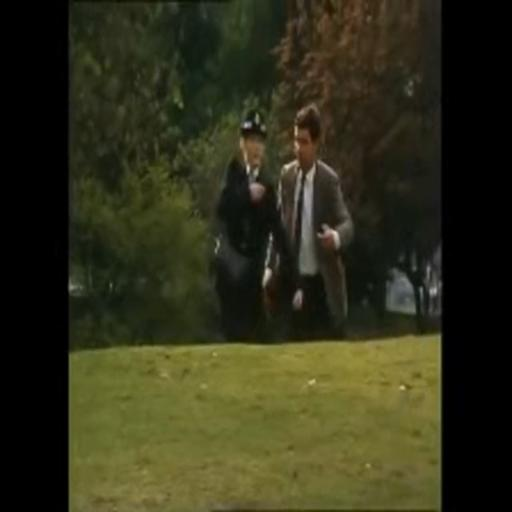nao-violencia: (205, 81, 360, 340)
